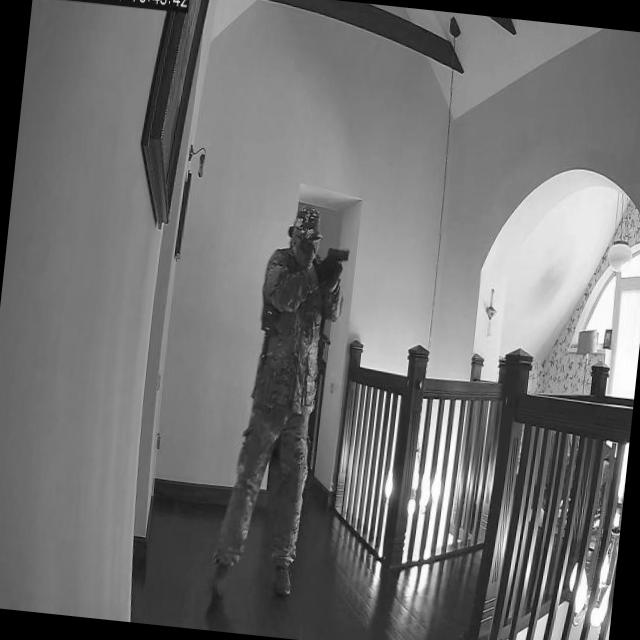gun: (324, 240, 352, 272)
person: (212, 197, 334, 598)
